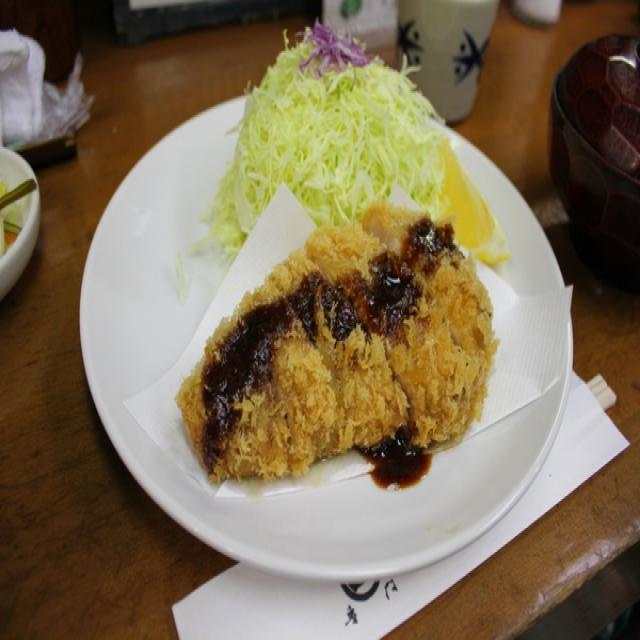Green Salad: (236, 22, 446, 205)
